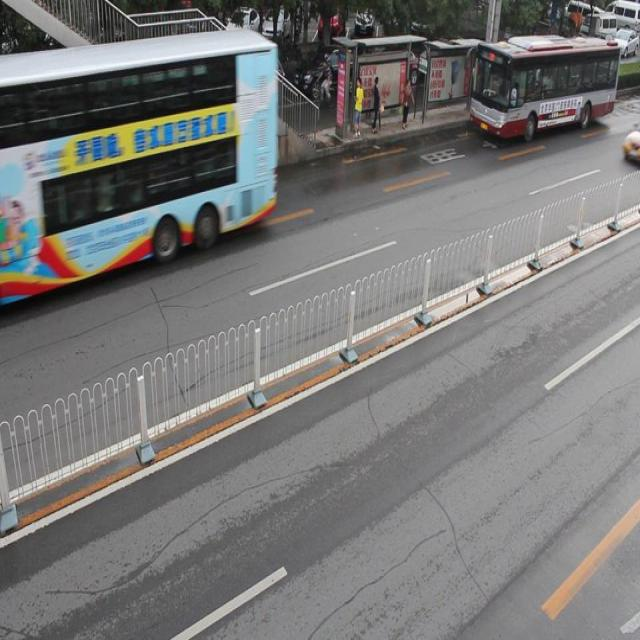car: (18, 80, 108, 146), (118, 69, 210, 125), (291, 41, 361, 98), (220, 49, 284, 110)
van: (0, 38, 276, 290), (471, 35, 617, 140)
